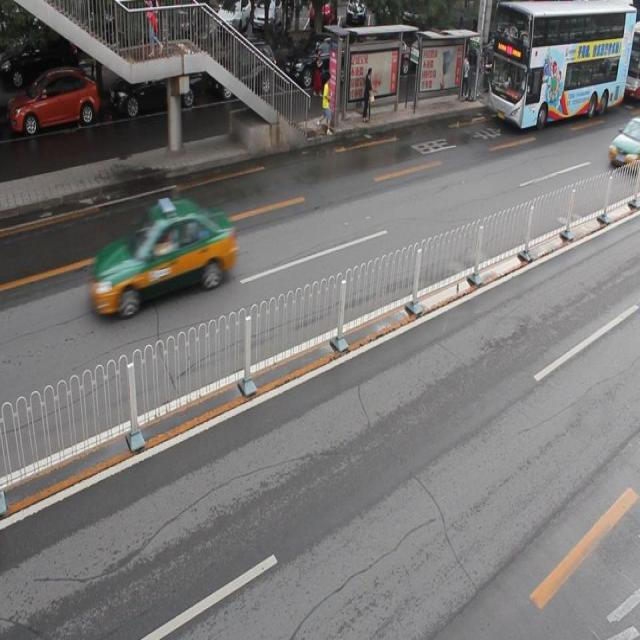car: (92, 196, 236, 310), (12, 70, 100, 136), (113, 51, 202, 116), (213, 38, 278, 102), (285, 33, 354, 89), (607, 116, 640, 174)
van: (485, 1, 632, 127)
